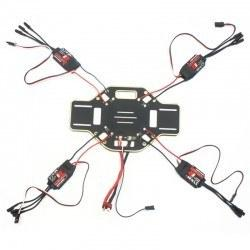drone: (7, 23, 250, 227)
